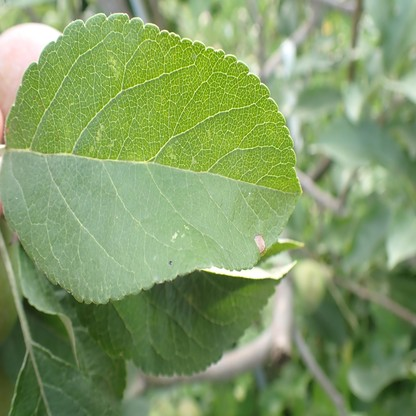frogeye_leaf_spot: (253, 234, 265, 253)
